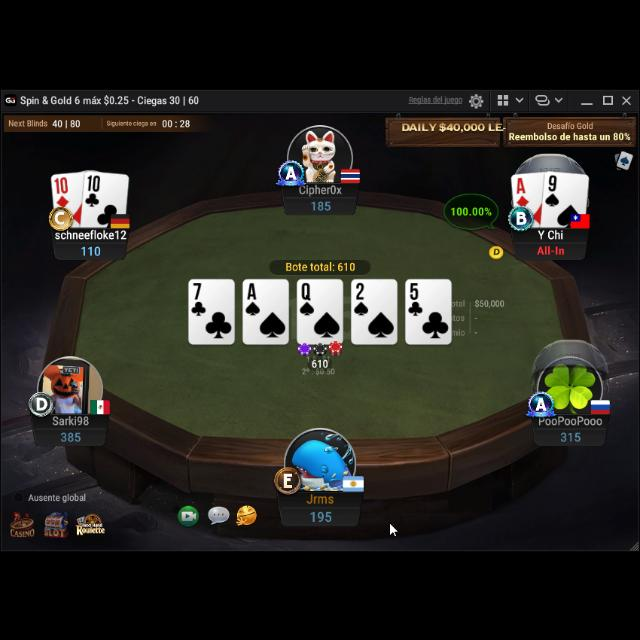2s: (353, 282, 371, 316)
5c: (408, 280, 424, 318)
7c: (190, 280, 208, 318)
9s: (544, 172, 562, 208)
Ad: (514, 176, 530, 207)
As: (243, 280, 260, 316)
Qs: (298, 281, 316, 317)
Tc: (84, 172, 102, 208)
Td: (54, 175, 72, 207)
all_in_symbol: (536, 242, 566, 254)
dealer: (487, 242, 505, 258)
pot_text: (284, 258, 358, 272)
stack_text: (309, 508, 333, 522), (58, 428, 82, 442), (310, 197, 332, 211), (80, 242, 102, 256), (560, 428, 582, 442)
